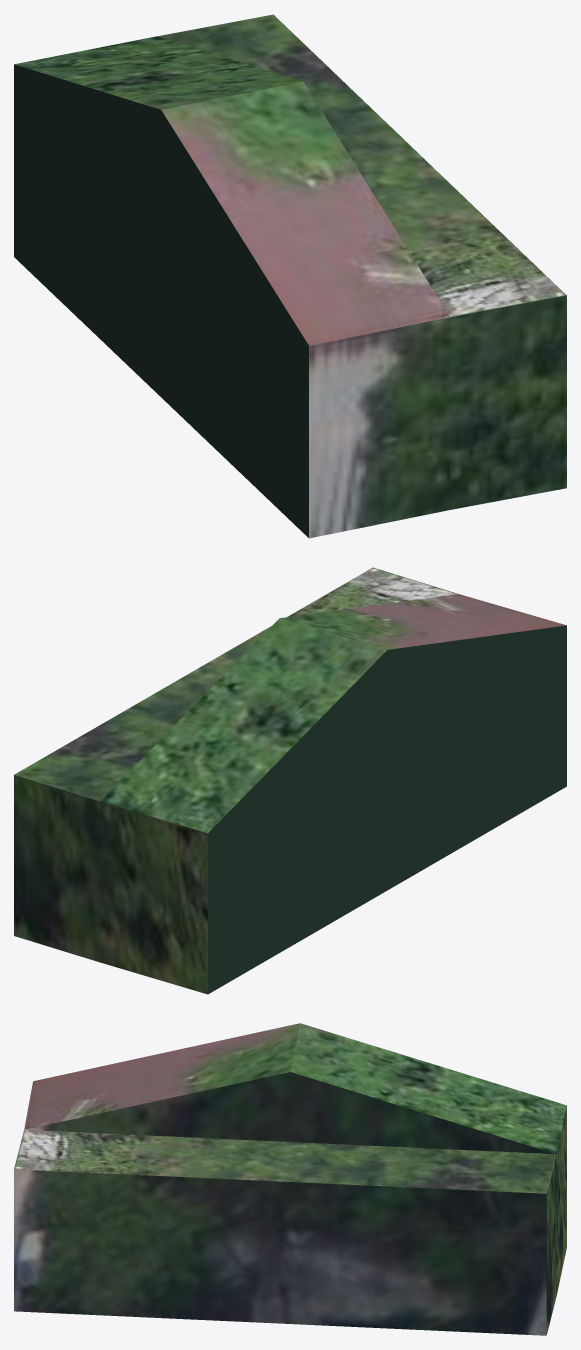
3 views of the same model, one above another, from view 1: azimuth 30°, elevation 25°; view 2: azimuth 150°, elevation 25°; view 3: azimuth 270°, elevation 25° (orthographic). The views are drawn at different scales.
Parts seen in each view (by area): view 1: B286974046001062A0; view 2: B286974046001062A0; view 3: B286974046001062A0.
Boxes of the visible parts, left/top/right/bottom form: B286974046001062A0: left=14, top=14, right=566, bottom=538; B286974046001062A0: left=14, top=567, right=566, bottom=994; B286974046001062A0: left=14, top=1023, right=566, bottom=1335.
Bounding box in the file's own units: 5.12 × 4.5 × 10.63.
1 material, 1 textured.
